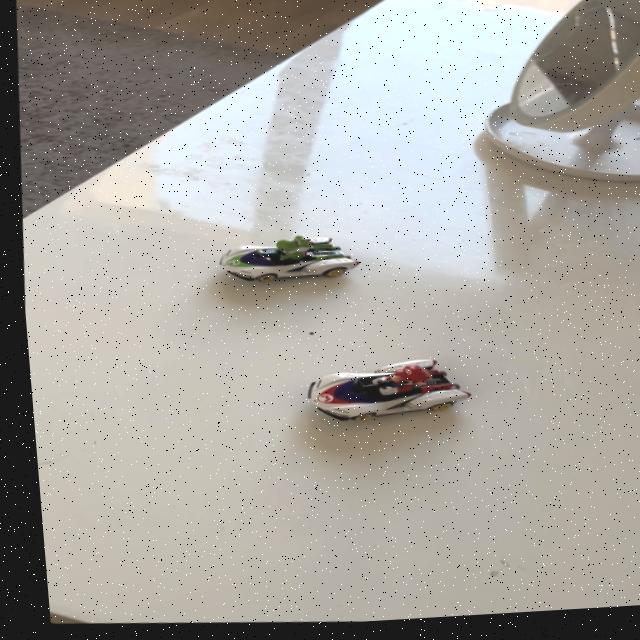mario: (285, 356, 476, 442)
yoshi: (199, 223, 368, 302)
